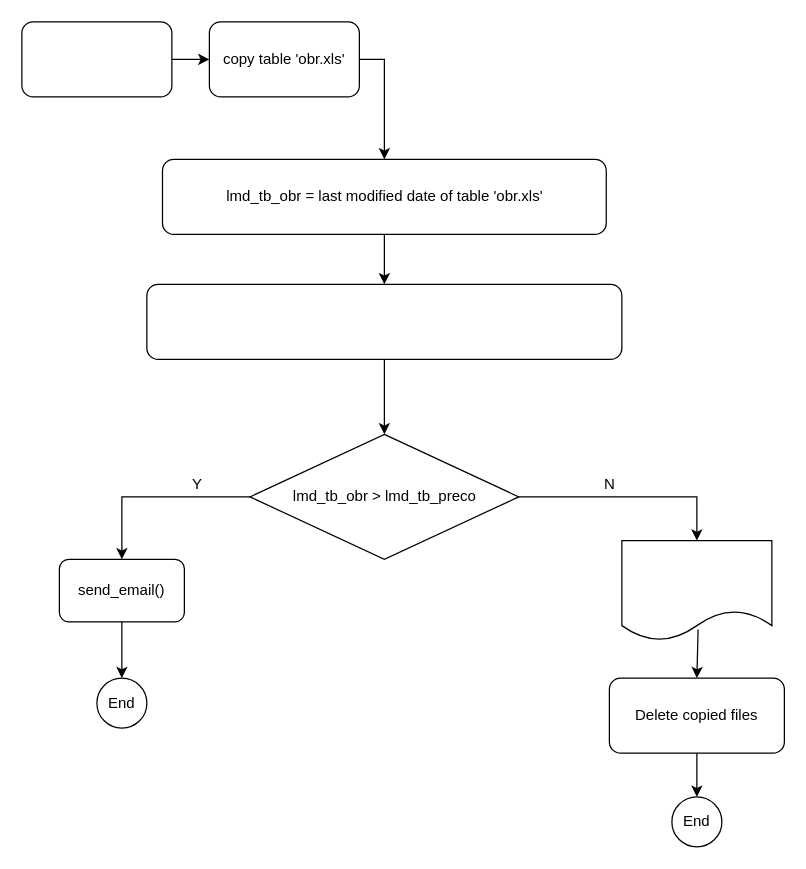
This 806x869 diagram has some shape labels left out. Here are the shapes that lost their labels. From the top down, the centre of each, then its label:
point (96, 59): copy table 'preco.xls'
point (384, 321): lmd_tb_preco = last modified date of table 'preco.xls'
point (696, 590): "Don't need to check"
